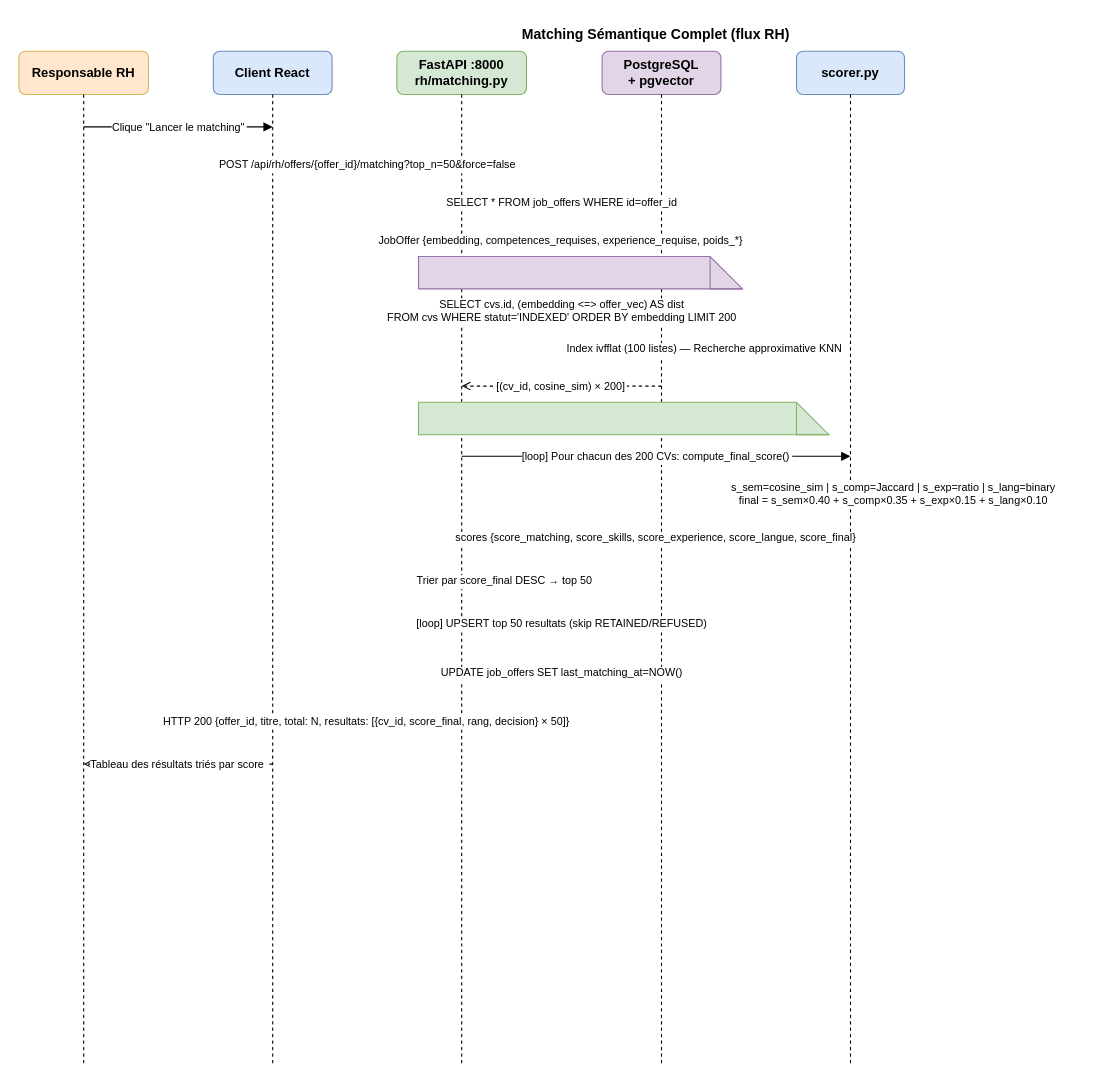
The diagram is 1107 pixels wide and 1086 high, and some of its shapes have lost their labels. The centre of each missing label's shape, as x and y in pixels:
=== Pré-filtre pgvector KNN ===: [579,272]
=== Scoring multi-critères sur les 200 CVs ===: [623,418]
